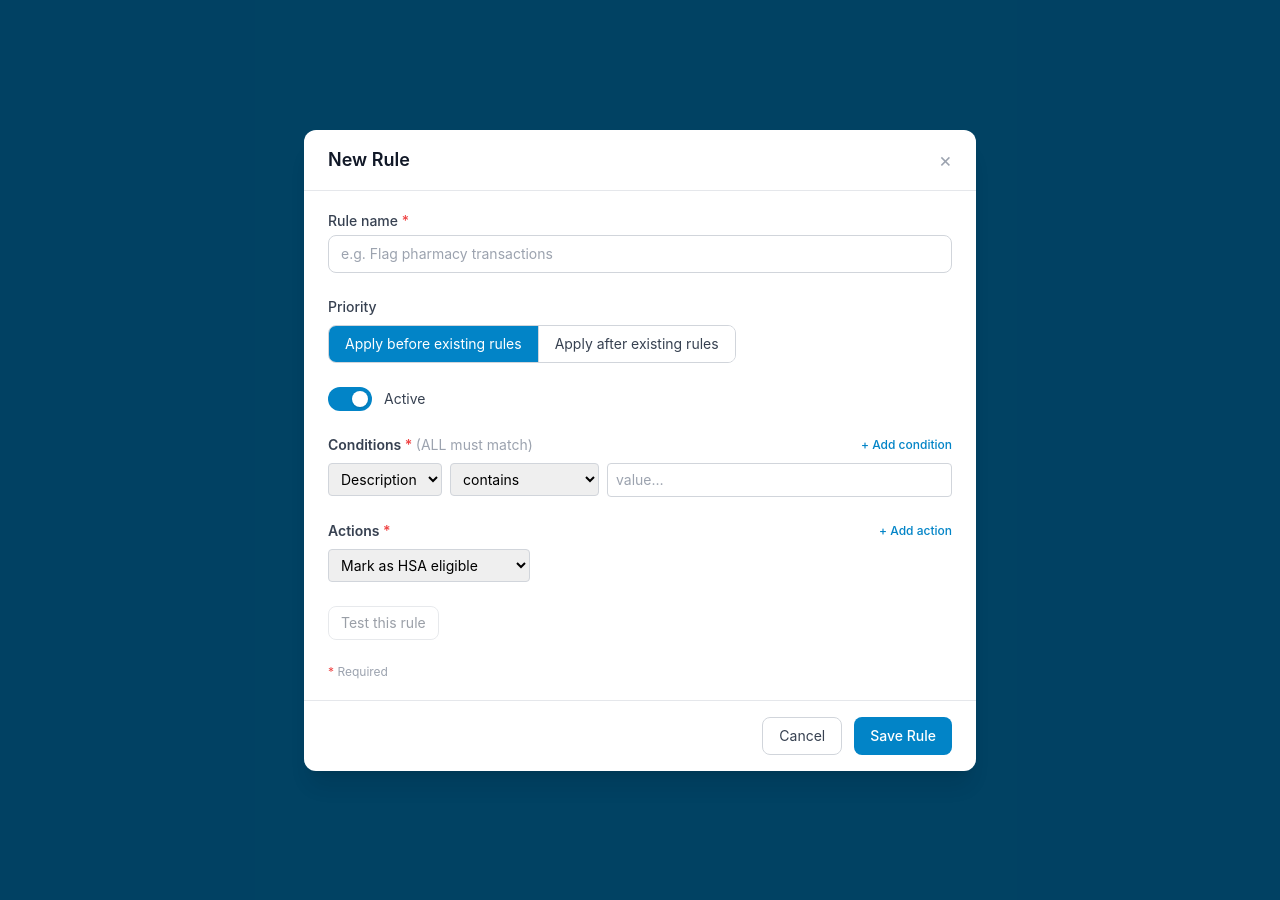
it: RuleEditor › shows error when saving with empty name
Click the button "Save Rule" at (903, 736), box [854,716,952,754]
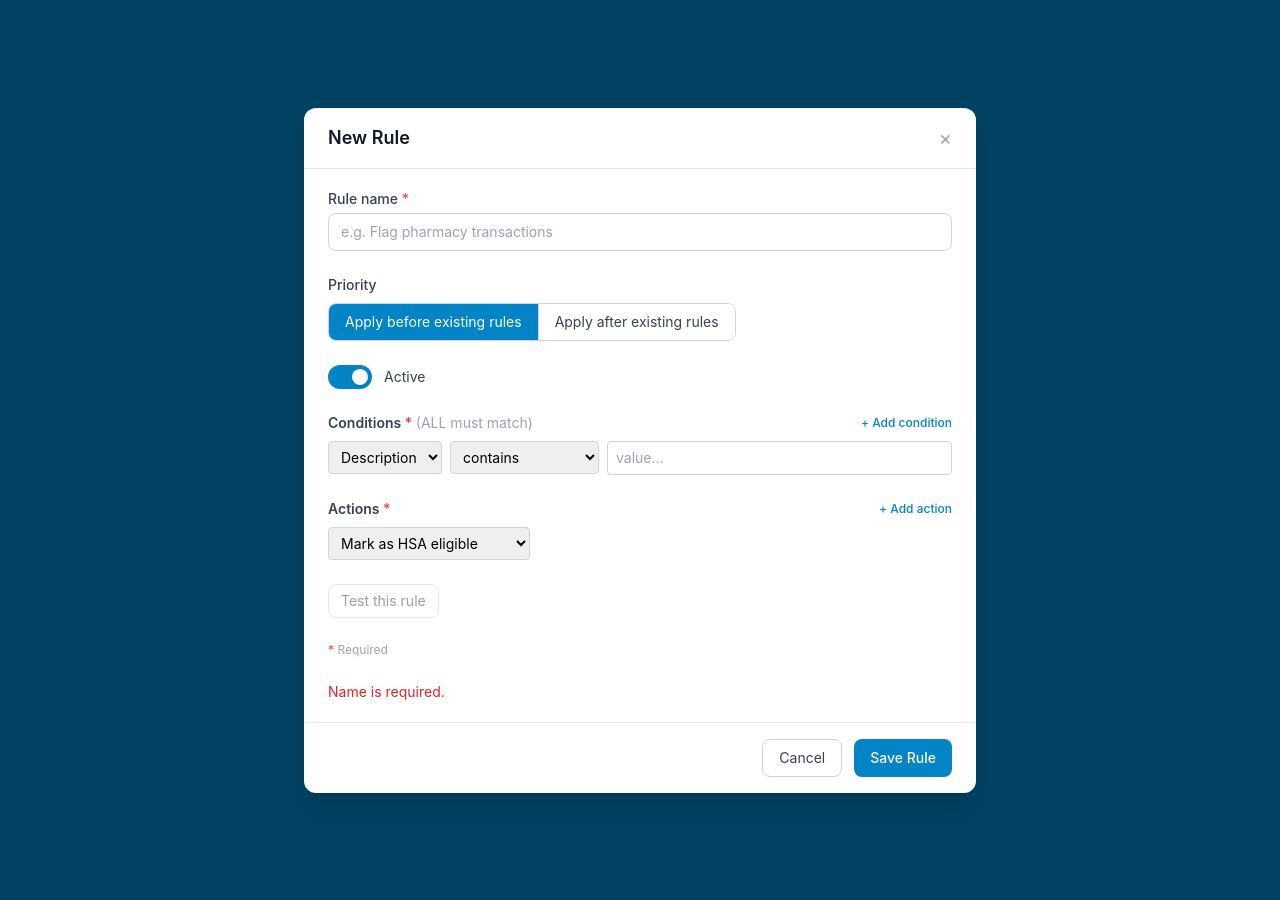
Now the text "Name is required." is shown, box [328,682,445,700]
